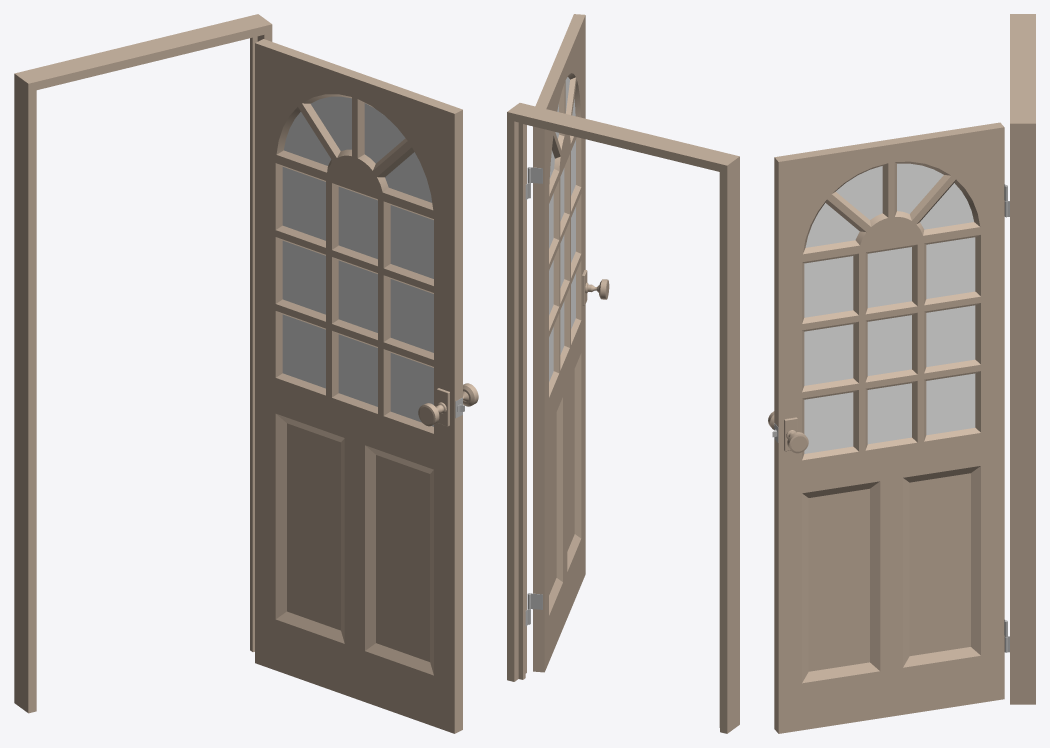
File: 376_ドア開.glb
3 views of the same model, side by side, from view 1: azimuth 30°, elevation 25°; view 2: azimuth 150°, elevation 25°; view 3: azimuth 270°, elevation 25° (orthographic). The views are drawn at different scales.
Visible parts, largest first — view 1: 戸, ドア枠; view 2: 戸, ドア枠; view 3: 戸, ドア枠.
Part boxes in pixels (x1,y1,x2,y2): 戸: [255, 39, 478, 733]; ドア枠: [14, 14, 272, 713]; 戸: [527, 14, 609, 672]; ドア枠: [507, 103, 739, 733]; 戸: [768, 122, 1007, 733]; ドア枠: [1004, 14, 1035, 704].
Bounding box in the file's own units: 1.02 × 1.85 × 0.7733.
